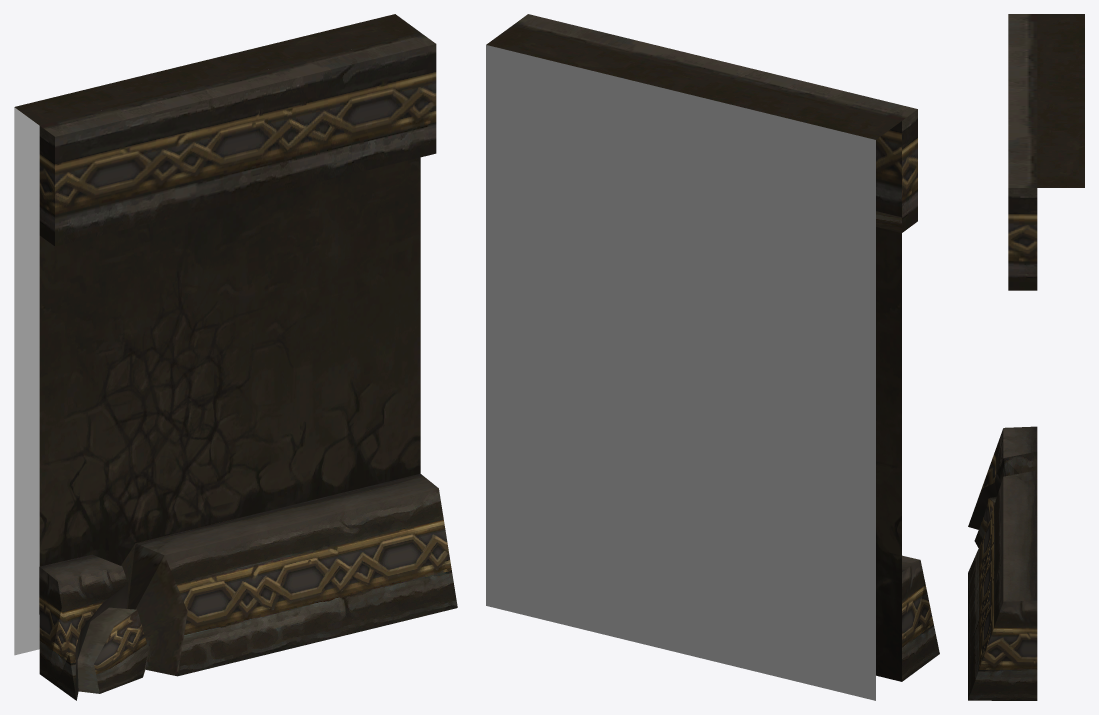
Rendered from fortress_wall_straight_04_e.fbx.
3 views of the same model, side by side, from view 1: azimuth 30°, elevation 25°; view 2: azimuth 150°, elevation 25°; view 3: azimuth 270°, elevation 25° (orthographic). The views are drawn at different scales.
Parts seen in each view (by area): view 1: fortress_wall_straight_04_e-0; view 2: fortress_wall_straight_04_e-0; view 3: fortress_wall_straight_04_e-0.
Part boxes in pixels (x1,y1,x2,y2): fortress_wall_straight_04_e-0: (14, 14, 457, 700); fortress_wall_straight_04_e-0: (486, 14, 939, 700); fortress_wall_straight_04_e-0: (968, 14, 1084, 700).
Size of the model in its own units: 4 by 5.53 by 1.14.
